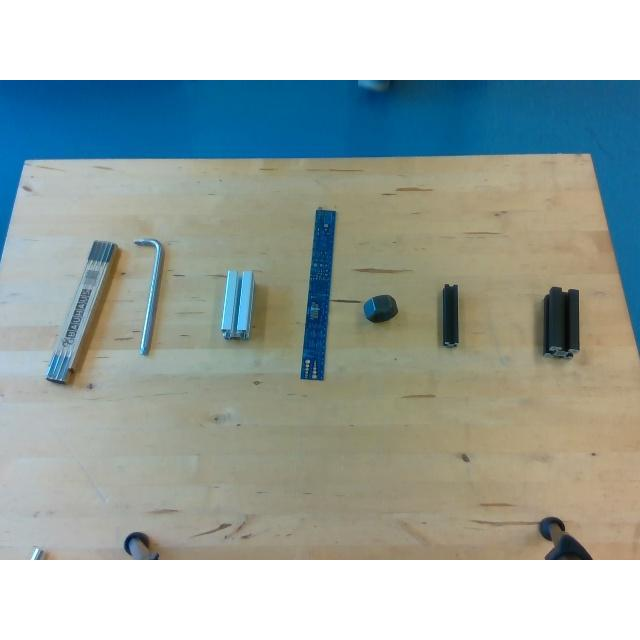AllenKey: (132, 239, 166, 355)
F20_20_B: (440, 282, 460, 350)
M30: (364, 294, 398, 322)
S40_40_B: (544, 286, 580, 356)
S40_40_G: (222, 269, 254, 337)
